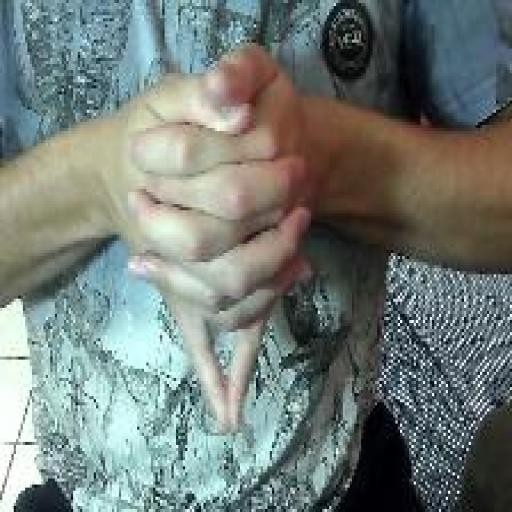Tatsu -dragon-: (119, 35, 320, 447)
